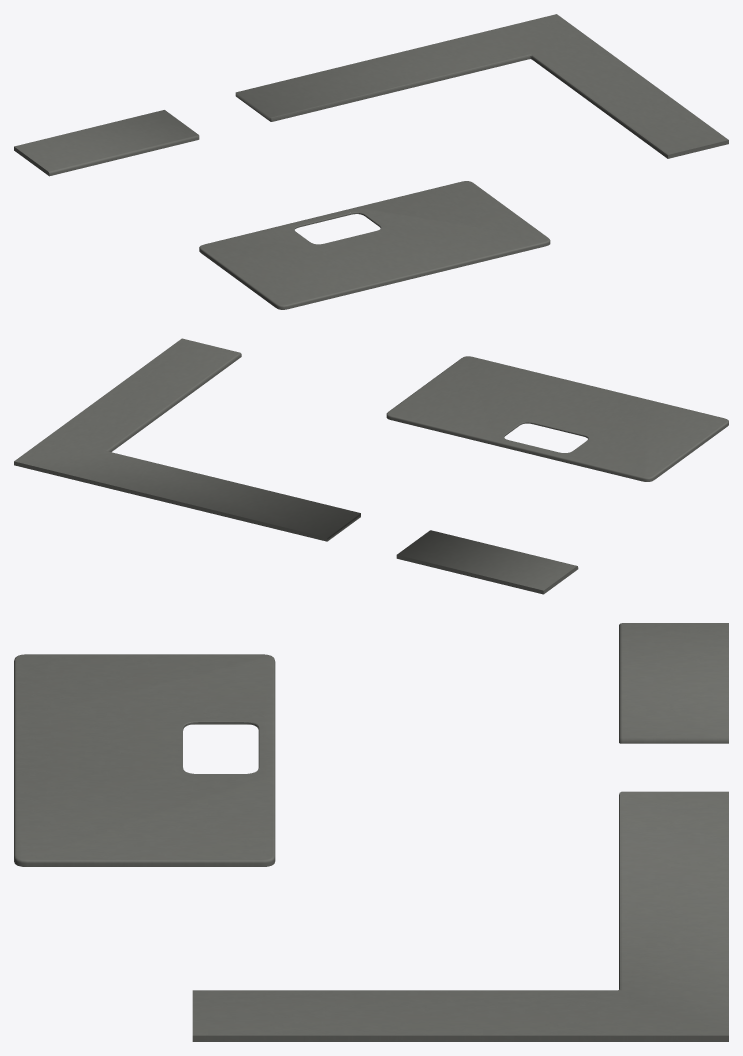
File: 1989_kitchen_Countertops_QuartzExpoGray.gltf
3 renders of one model, top to bottom at view 1: azimuth 30°, elevation 25°; view 2: azimuth 150°, elevation 25°; view 3: azimuth 270°, elevation 25°, orthographic. The views are drawn at different scales.
Visible parts, largest first — view 1: Countertop_quartz_expo_gray.001; view 2: Countertop_quartz_expo_gray.001; view 3: Countertop_quartz_expo_gray.001.
Part boxes in pixels (x1,y1,x2,y2): Countertop_quartz_expo_gray.001: (14, 14, 728, 309); Countertop_quartz_expo_gray.001: (14, 338, 728, 594); Countertop_quartz_expo_gray.001: (14, 623, 728, 1041).
Bounding box in the file's own units: 7.1 × 0.07 × 5.2.
Materials: 1 (1 with a texture image).
